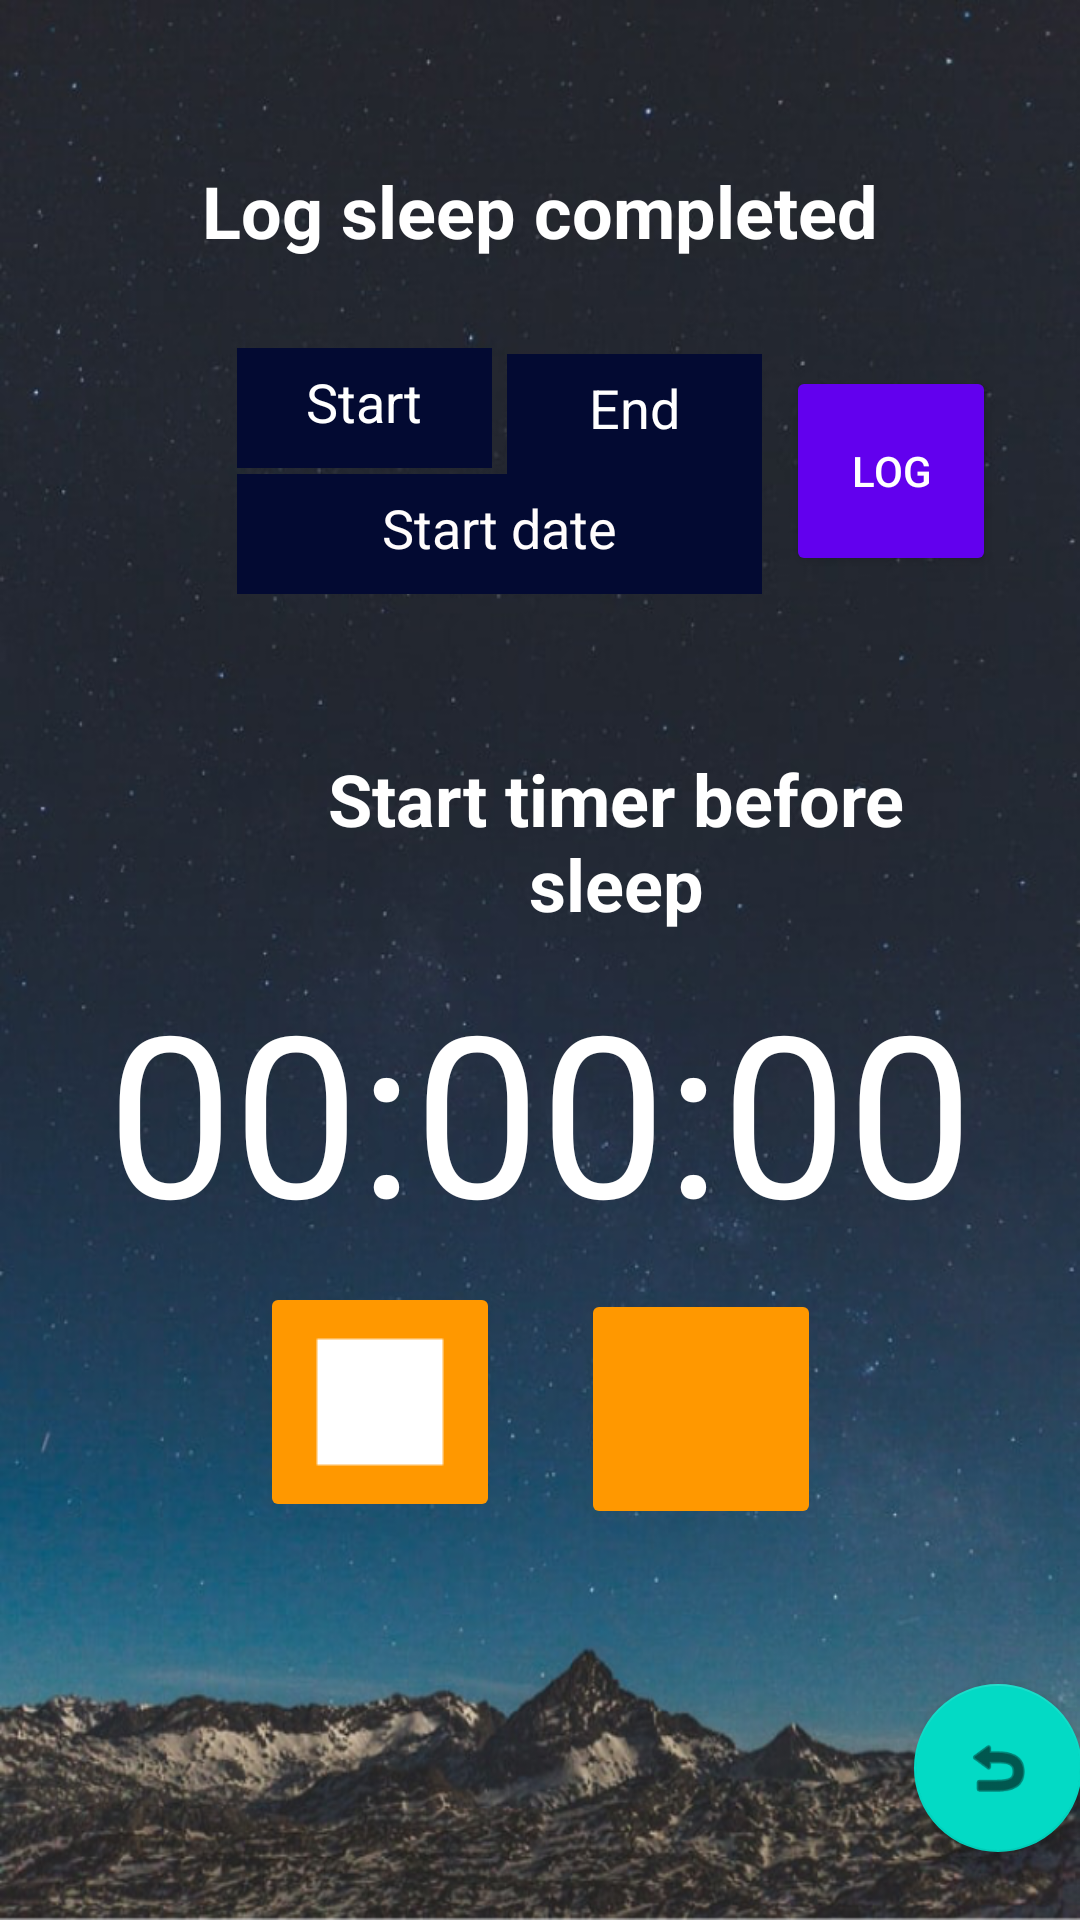

Icon click points for this 1080 × 1920 phone screenshot, format point (x, y):
revert: point (997, 1768)
Stop timer: point (380, 1402)
